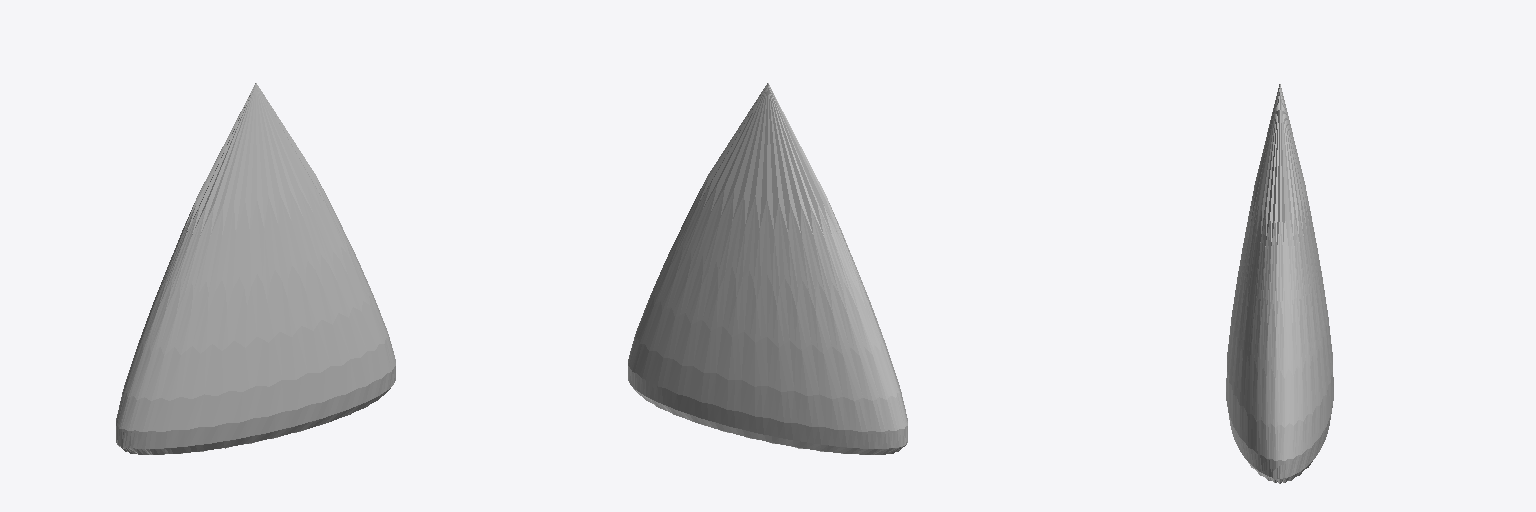
File: body.obj
3 renders of one model, left to right at view 1: azimuth 30°, elevation 25°; view 2: azimuth 150°, elevation 25°; view 3: azimuth 270°, elevation 25°, orthographic.
Parts seen in each view (by area): view 1: 원뿔; view 2: 원뿔; view 3: 원뿔.
Part boxes in pixels (bbox=[...]): 원뿔: bbox=[116, 83, 395, 454]; 원뿔: bbox=[628, 83, 907, 454]; 원뿔: bbox=[1226, 84, 1333, 483].
Bounding box in the file's own units: 0.219 × 0.2627 × 0.0737.